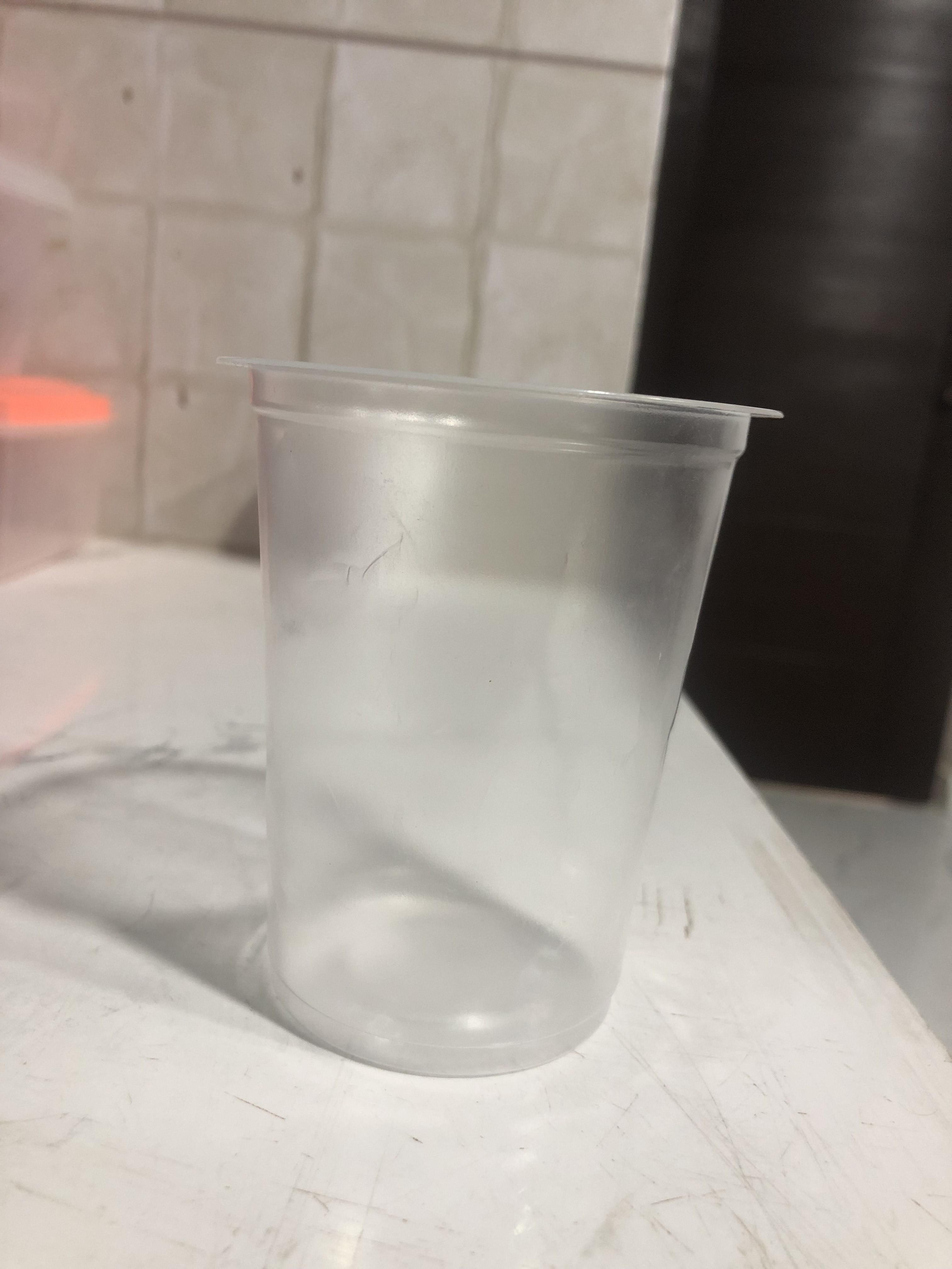cup-disposable: (215, 352, 788, 1081)
